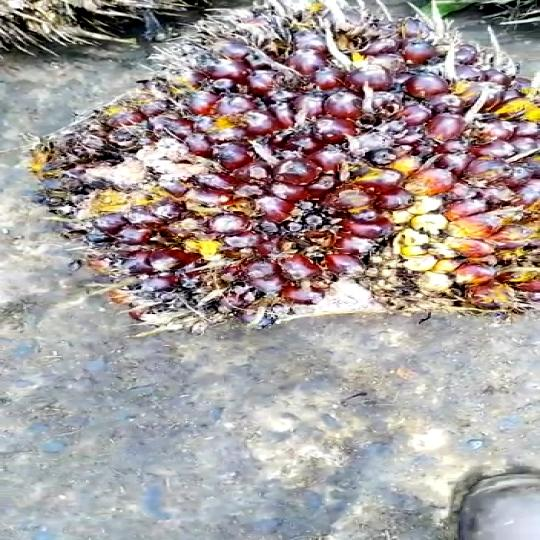masak: (31, 0, 540, 330)
